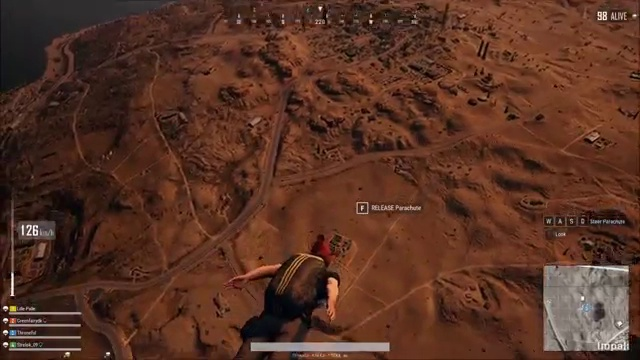Player: (219, 219, 352, 324)
